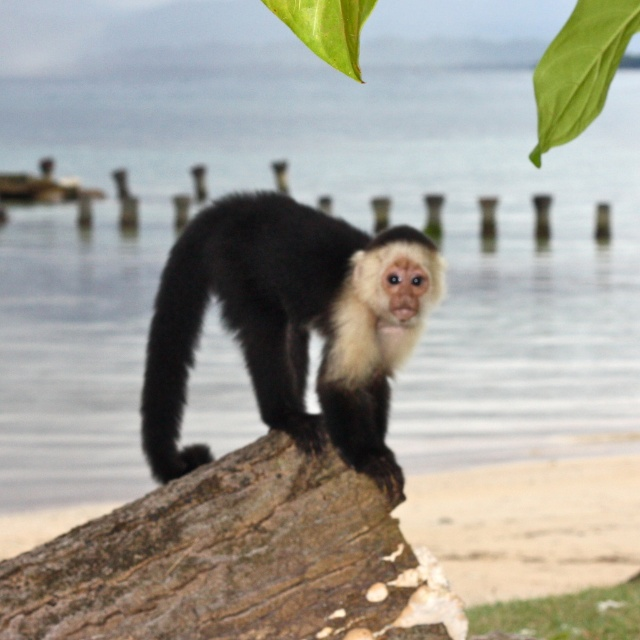Monkey: (107, 167, 468, 486)
